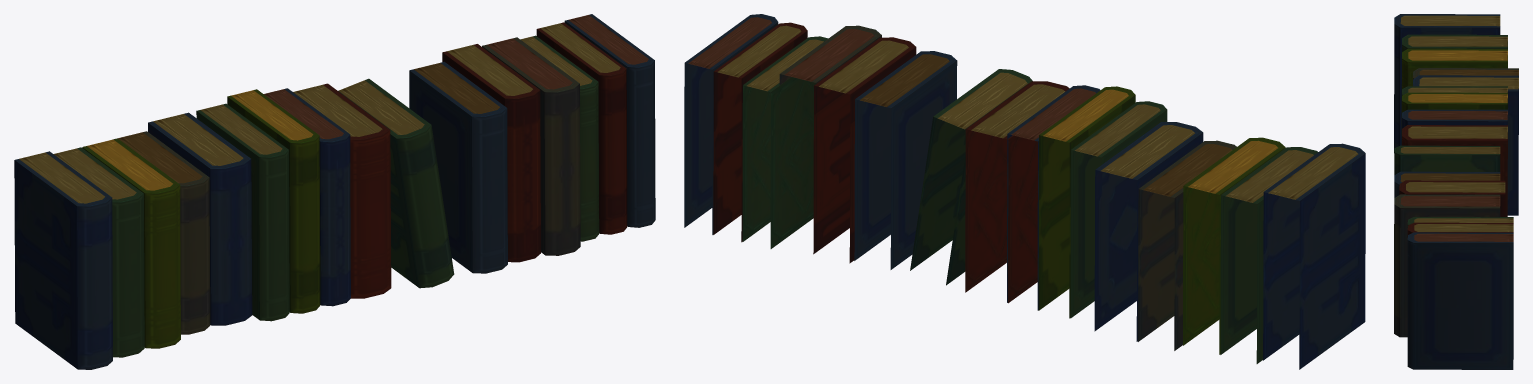
The model's file is BookGroup Medium 1.glb.
3 renders of one model, left to right at view 1: azimuth 30°, elevation 25°; view 2: azimuth 150°, elevation 25°; view 3: azimuth 270°, elevation 25°, orthographic. The views are drawn at different scales.
Parts seen in each view (by area): view 1: BookGroup_Medium_1; view 2: BookGroup_Medium_1; view 3: BookGroup_Medium_1.
Boxes of the visible parts, x1,y1,x2,y2 form: BookGroup_Medium_1: [14, 14, 655, 369]; BookGroup_Medium_1: [684, 14, 1365, 369]; BookGroup_Medium_1: [1394, 14, 1518, 369].
Bounding box in the file's own units: 1.06 × 0.2983 × 0.2475.
Materials: 1 (1 with a texture image).
